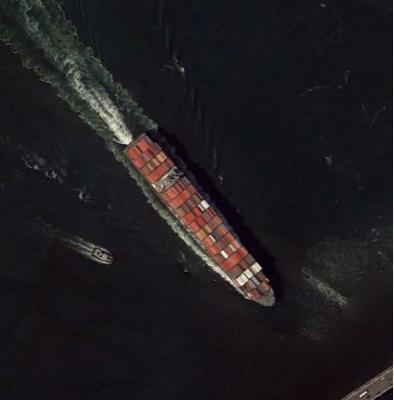boat: (120, 130, 278, 309), (89, 246, 117, 266)
